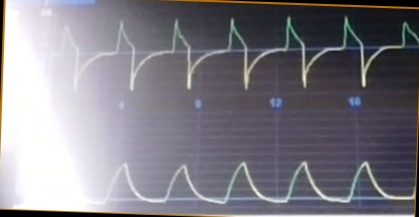Normal Flow: (55, 14, 419, 92)
Normal Volume: (81, 144, 414, 209)
